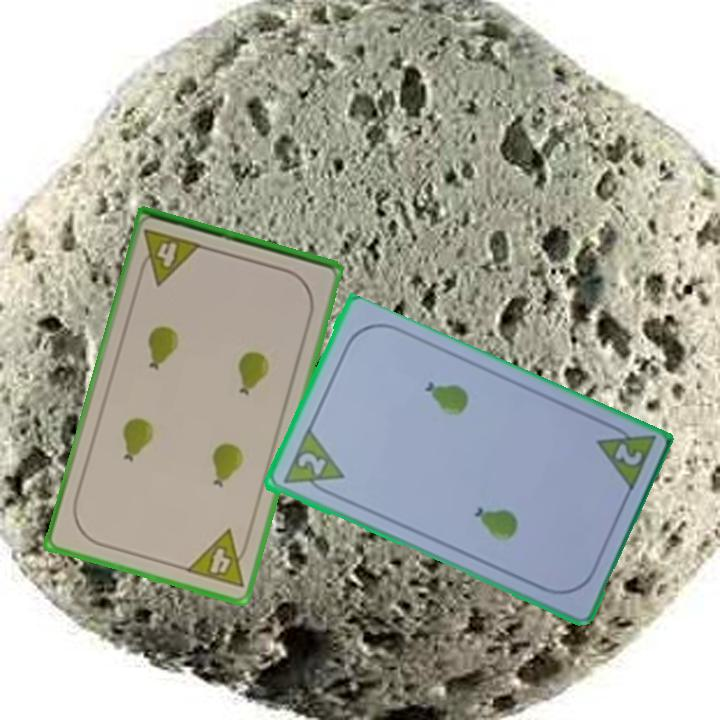2p: (293, 449, 328, 479), (610, 440, 645, 469)
4p: (182, 526, 254, 592), (134, 225, 205, 288)
